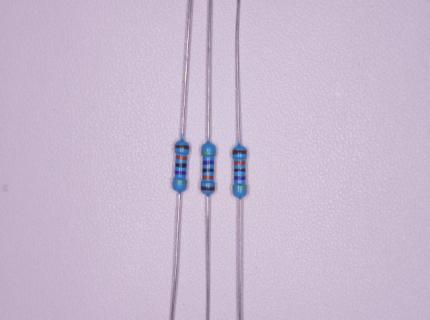Black band: (202, 168, 214, 173), (175, 163, 187, 168), (234, 169, 246, 172)
Brown band: (232, 149, 247, 155), (175, 144, 189, 150), (201, 186, 215, 191)
Orange band: (175, 155, 187, 160), (203, 175, 214, 180), (234, 161, 246, 165)
Violet band: (234, 176, 246, 181), (203, 160, 214, 165), (174, 171, 187, 175)
Yellow band: (172, 180, 187, 185), (201, 151, 216, 155), (233, 186, 247, 190)
